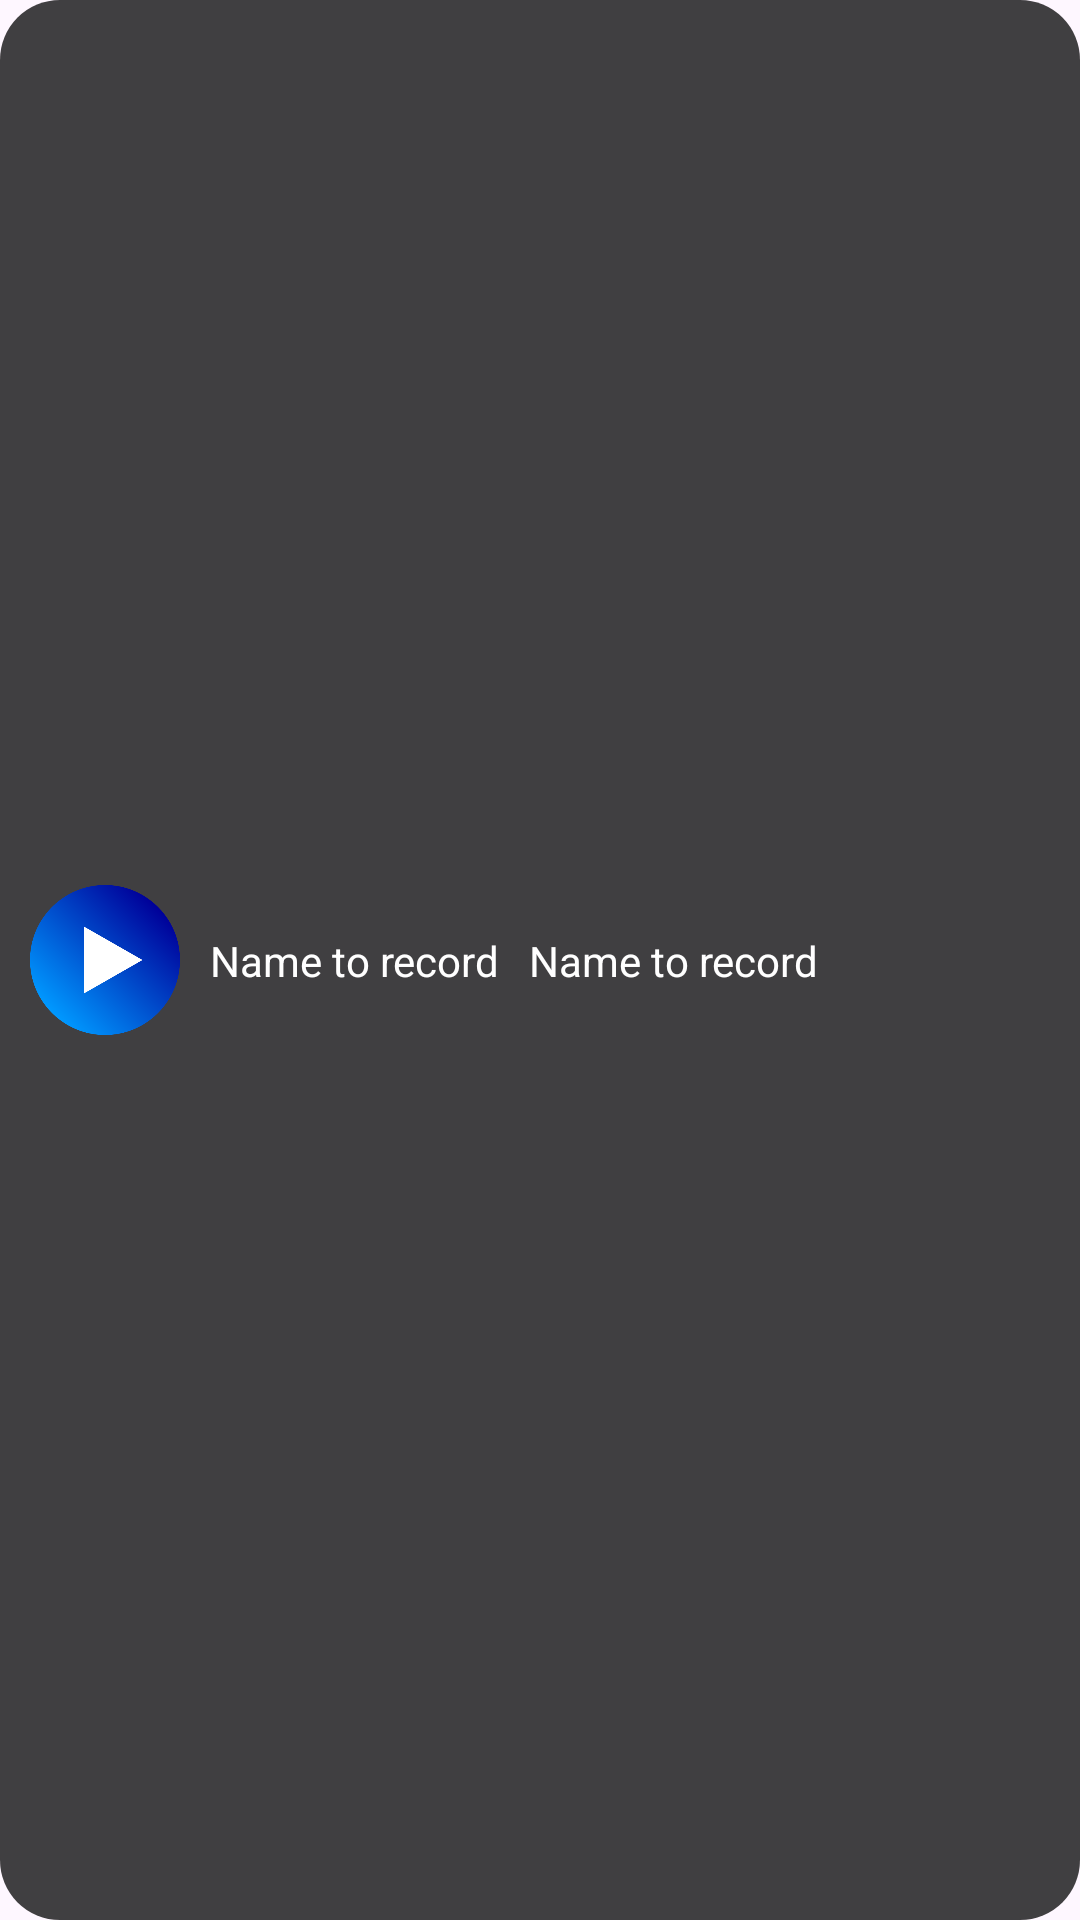

Screen size 1080px×1920px. Icon name, then its box in pixels as box(x1, y1, x2, y2):
play: box(30, 885, 180, 1035)
